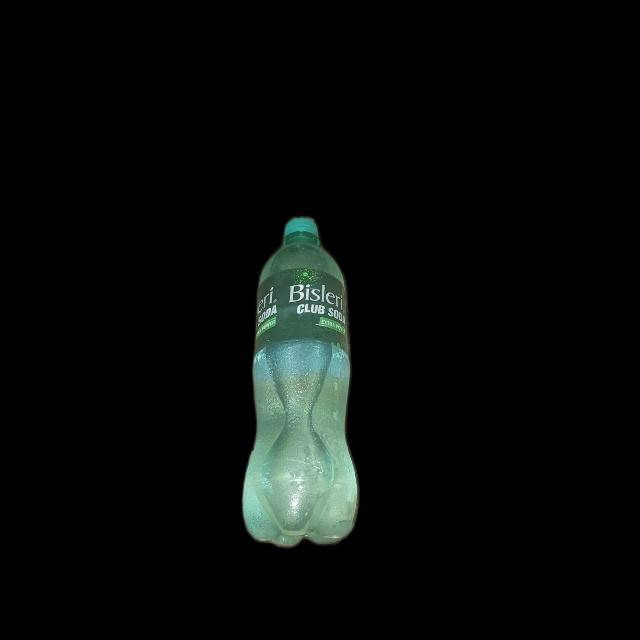Bisleri Club Soda - 750 ml: (243, 206, 363, 554)
